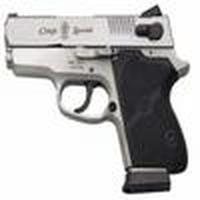gun: (3, 6, 192, 190)
